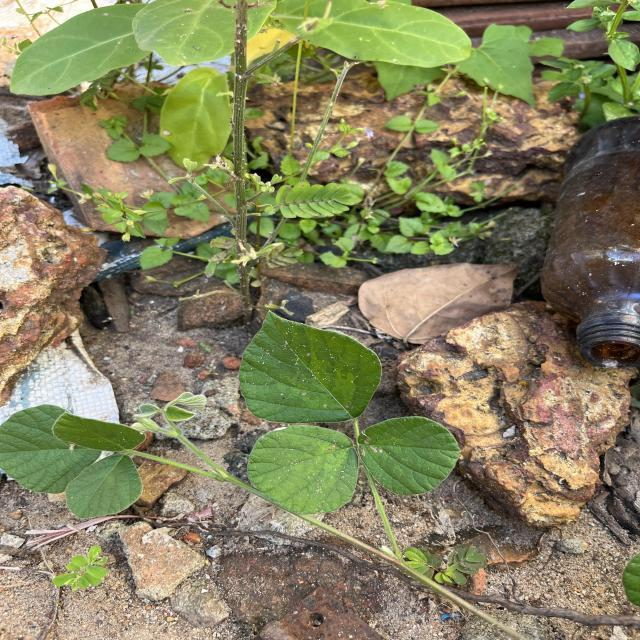Pseudarthria viscida: (236, 308, 463, 518)
